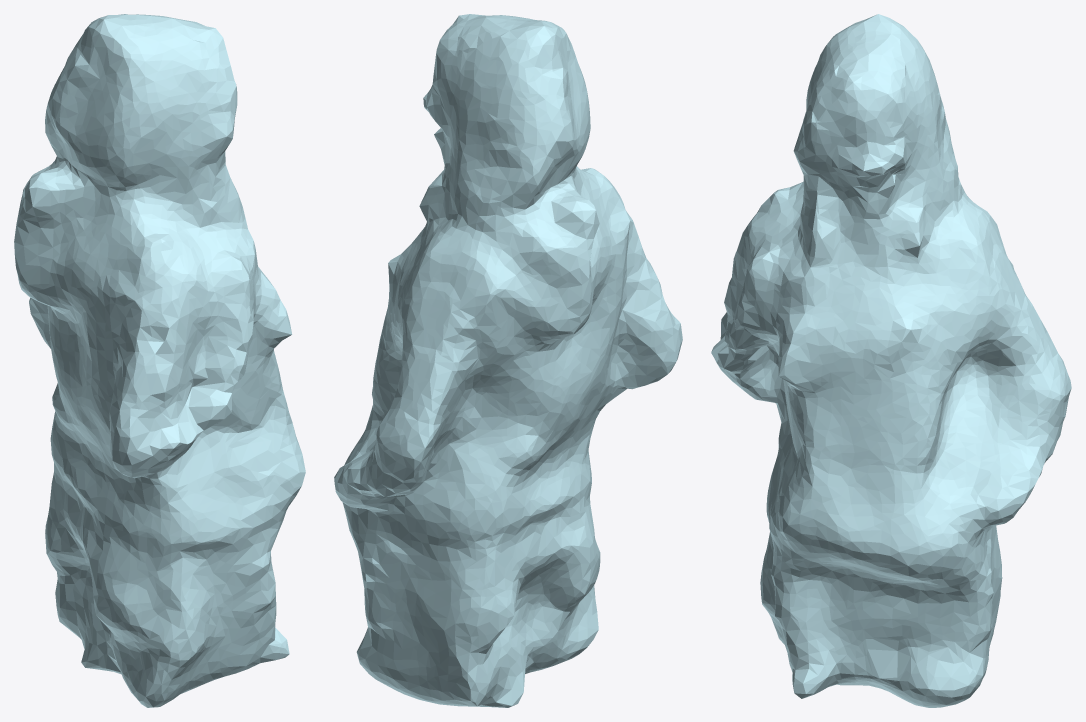
File: girl_hoodie-scribble.glb
3 renders of one model, left to right at view 1: azimuth 30°, elevation 25°; view 2: azimuth 150°, elevation 25°; view 3: azimuth 270°, elevation 25°, orthographic. The views are drawn at different scales.
Parts seen in each view (by area): view 1: extracted_mesh; view 2: extracted_mesh; view 3: extracted_mesh.
Part boxes in pixels (<box>): extracted_mesh: <box>14,14,305,707</box>; extracted_mesh: <box>334,14,682,707</box>; extracted_mesh: <box>711,14,1071,707</box>.
Size of the model in its own units: 0.4443 by 1.17 by 0.5839.
1 material, 1 textured.
